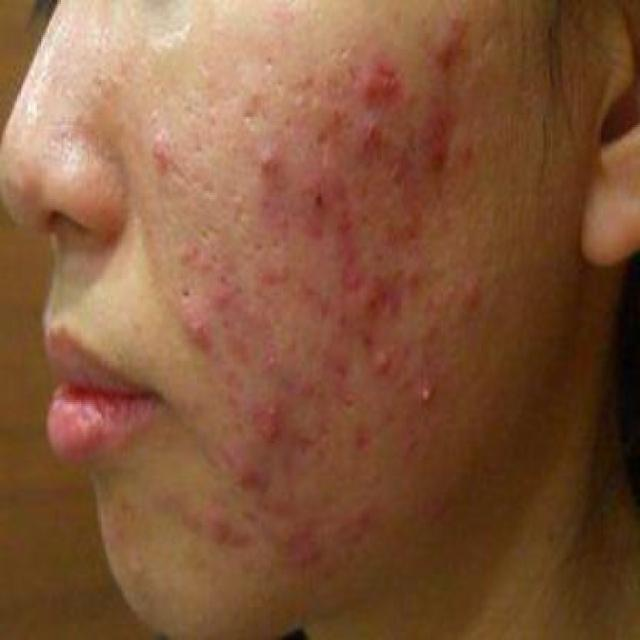papules: (348, 49, 404, 109), (352, 330, 400, 380), (231, 452, 277, 501), (350, 109, 388, 158), (142, 130, 182, 174), (429, 29, 471, 70), (256, 137, 286, 193), (177, 312, 212, 357)
pustules: (410, 376, 448, 412)
